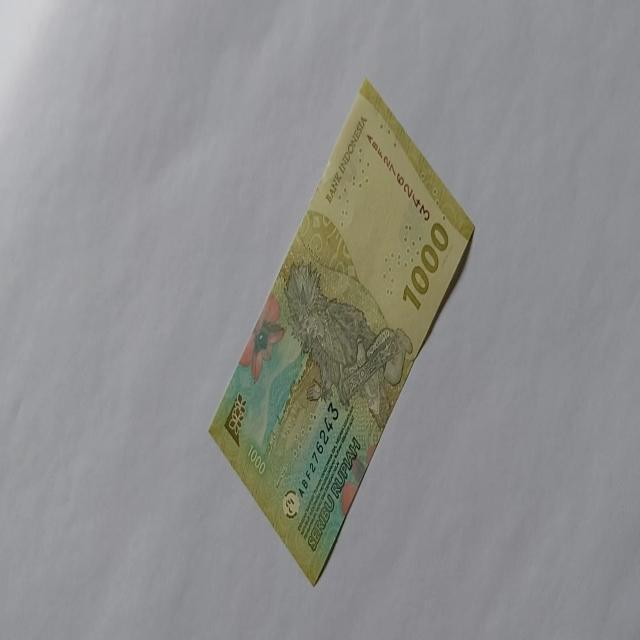seribu rupiah kertas: (207, 76, 475, 586)
